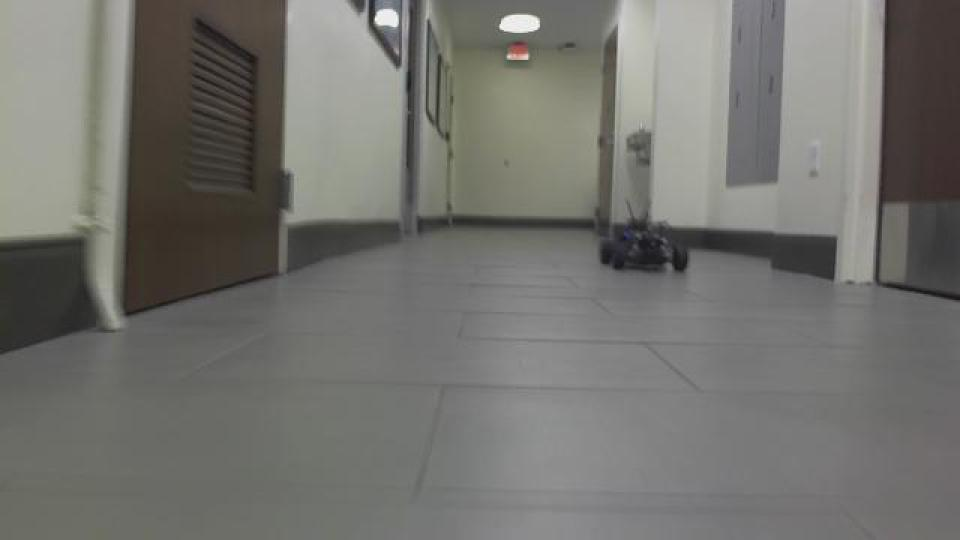car: (594, 198, 690, 276)
